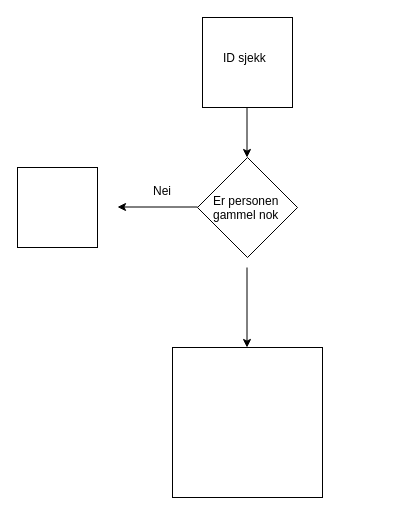
Some shapes in this 405 by 515 pixel diagram are drawn without their labels. The centre of each missing label's shape, as x and y in pixels:
Ikke Slipp Personen inn: the point at 57,207
Slippe Personen inn ITS TIME TO PARTY: the point at 247,422
